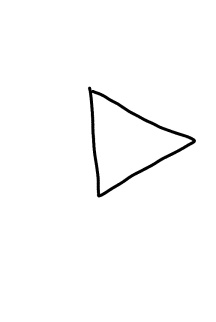Triangle: (85, 82, 197, 204)
